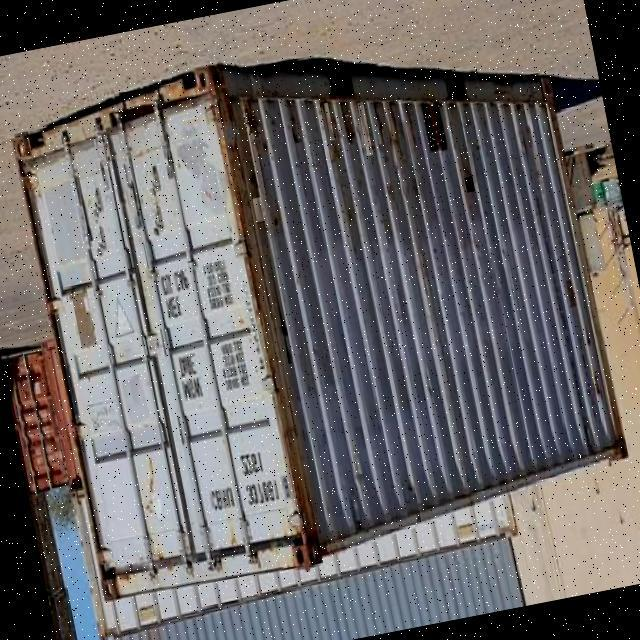Rust: (421, 101, 448, 153), (358, 102, 374, 156), (243, 104, 263, 140), (342, 108, 356, 146), (324, 103, 335, 141), (253, 197, 265, 222), (465, 177, 476, 193), (293, 127, 302, 144)
